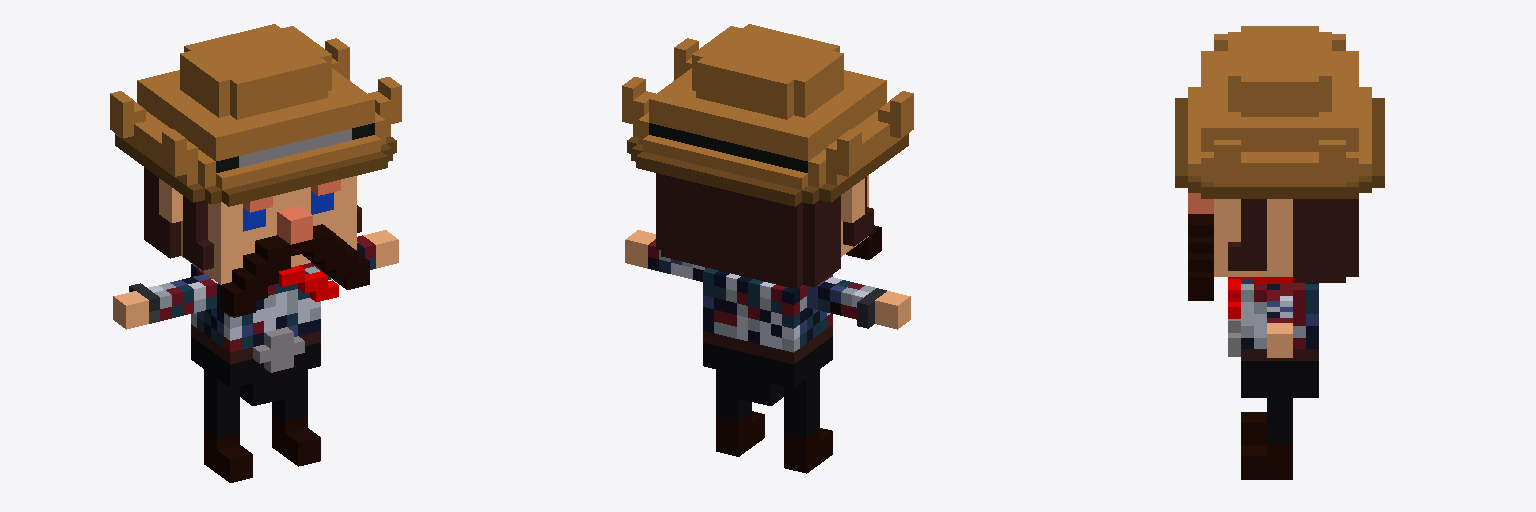
3 renders of one model, left to right at view 1: azimuth 30°, elevation 25°; view 2: azimuth 150°, elevation 25°; view 3: azimuth 270°, elevation 25°, orthographic.
Visible parts, largest first — view 1: object 1; view 2: object 1; view 3: object 1.
Part boxes in pixels (bbox=[...]): object 1: bbox=[110, 24, 401, 482]; object 1: bbox=[622, 24, 913, 473]; object 1: bbox=[1175, 26, 1384, 479].
Size of the model in its own units: 2.4 by 3.4 by 1.6.
1 materials, 1 textured.